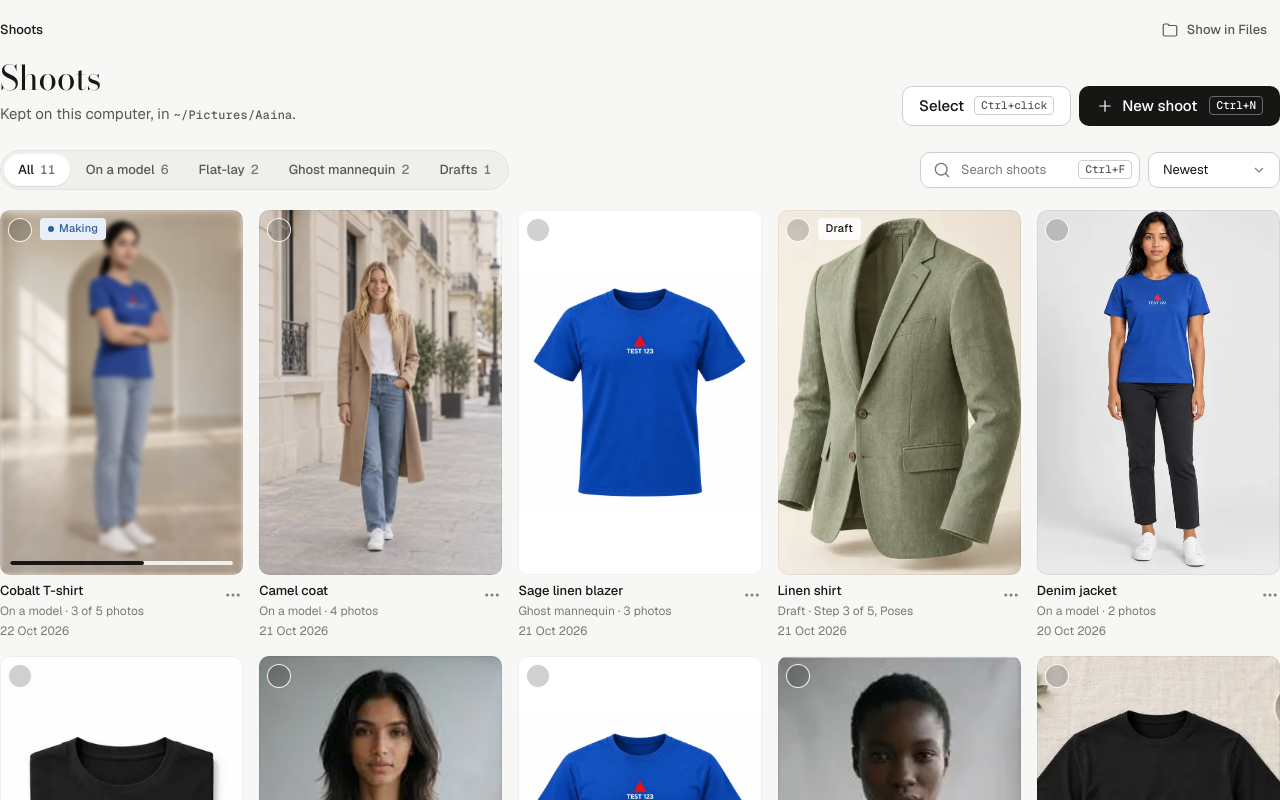
Test: Shoots › confirming deletes the shoot, tells the person and removes the card
Step 1. Click the button named "Shoot options" next to "On a model · 4 photos" → click(492, 595), box [476,579,508,611]
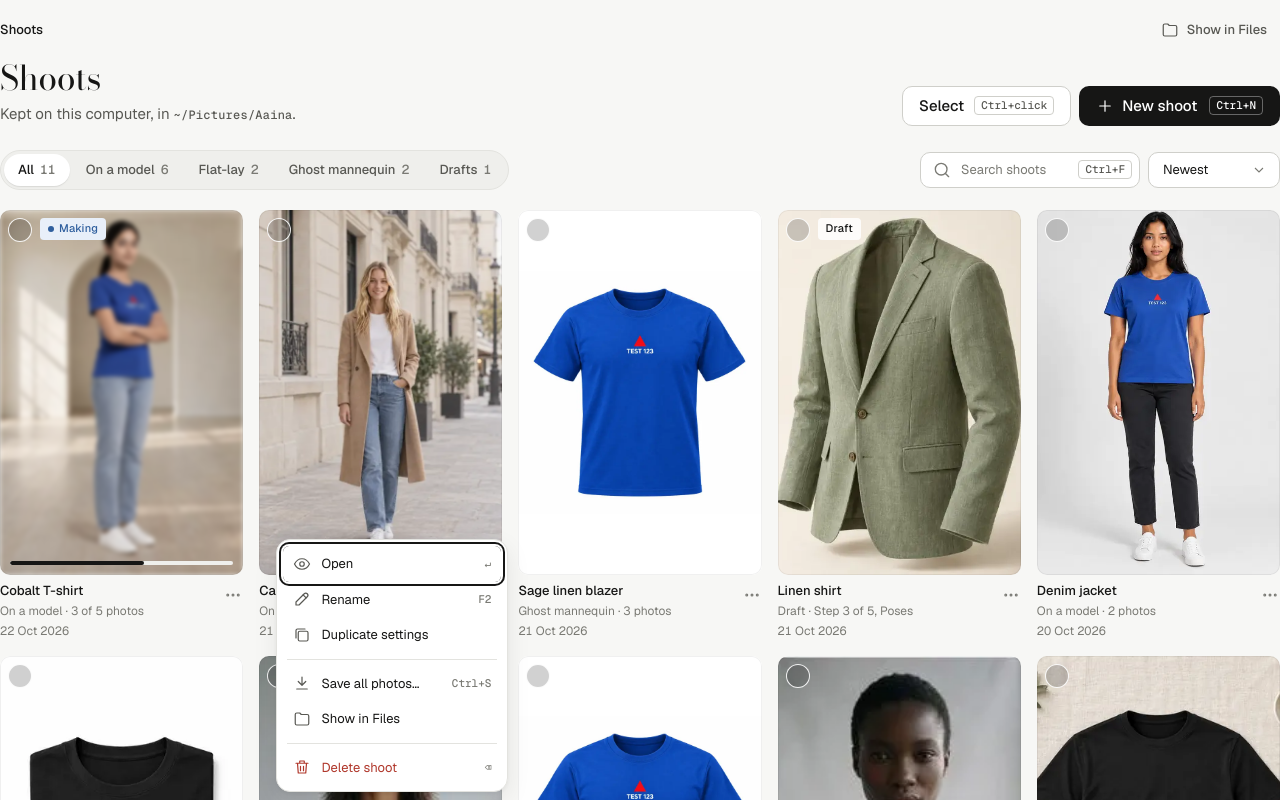
Step 2. Click the menu item "Delete shoot ⌫" → click(392, 767), box [283,750,501,785]
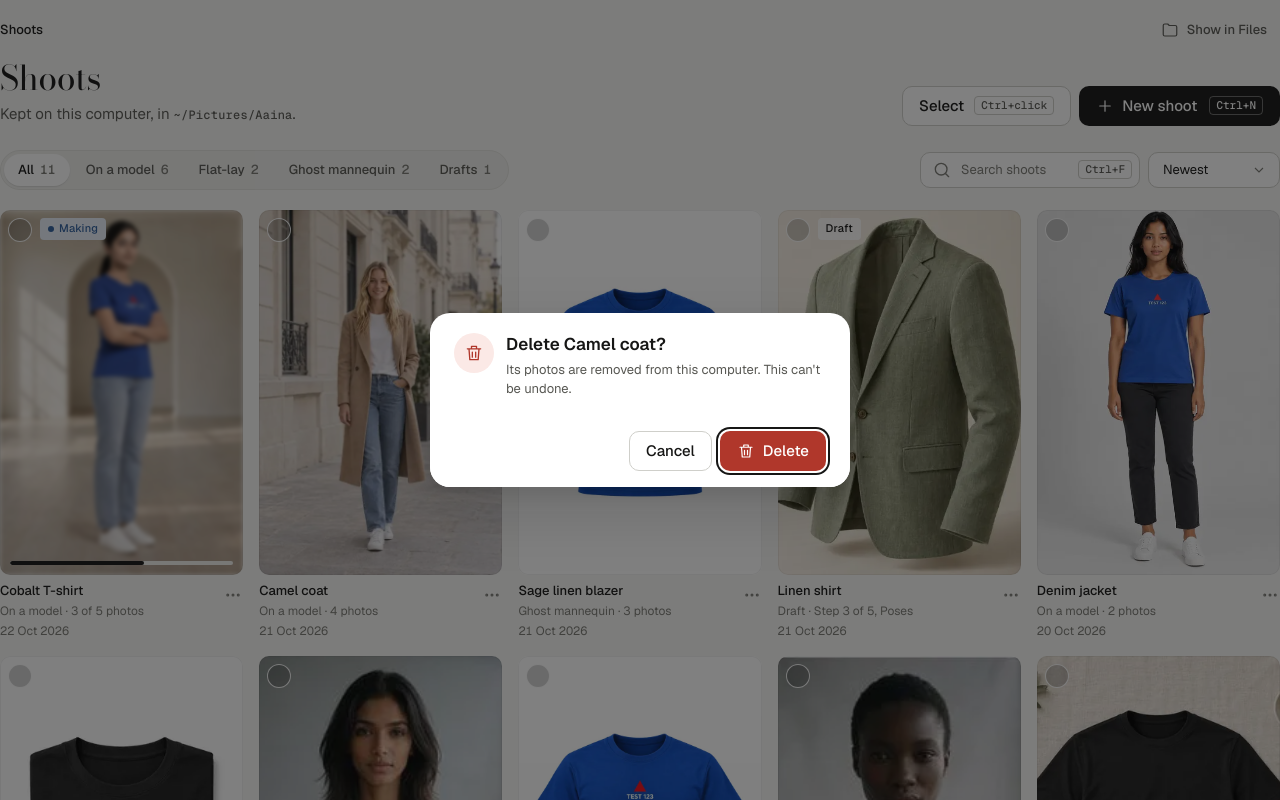
Step 3. Click the button "Delete" → click(773, 450), box [720,430,826,470]
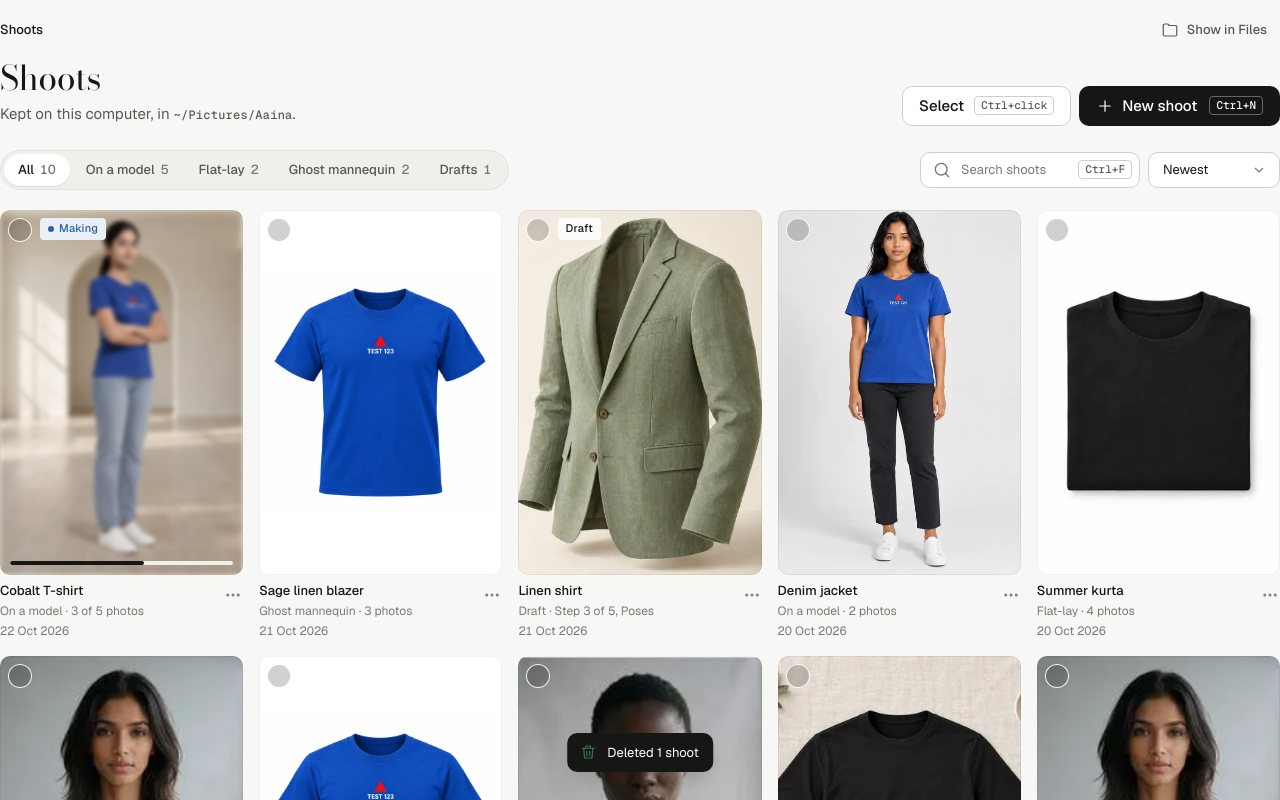
Check: the text "Deleted 1 shoot" is shown, box [567,732,713,772]
Check: the text "Camel coat" is gone
